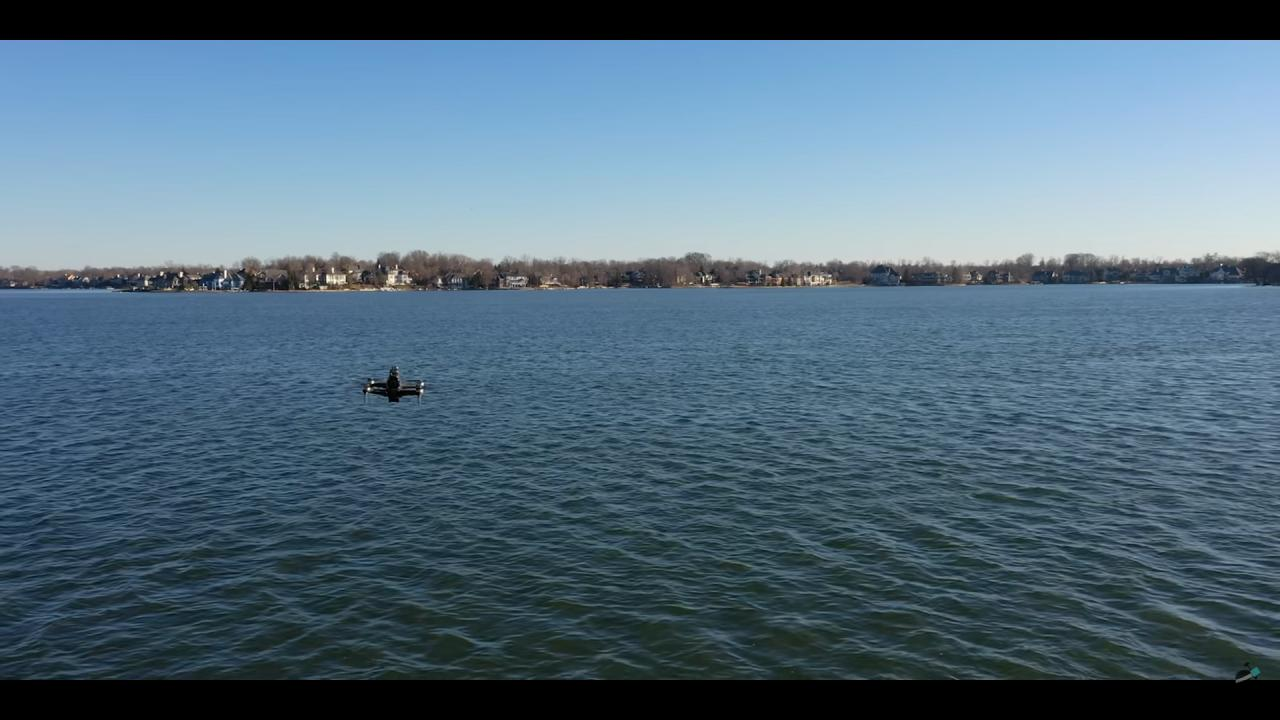Drone: (343, 356, 440, 413)
